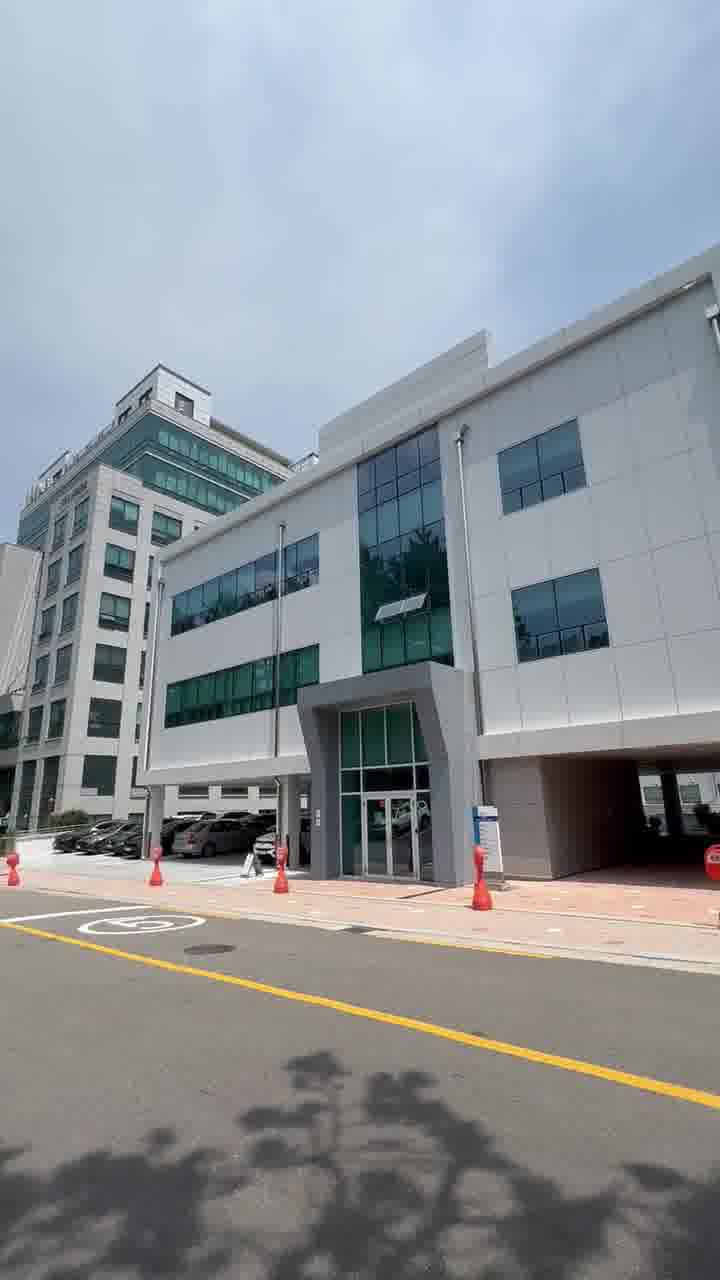low: (180, 390, 720, 884)
